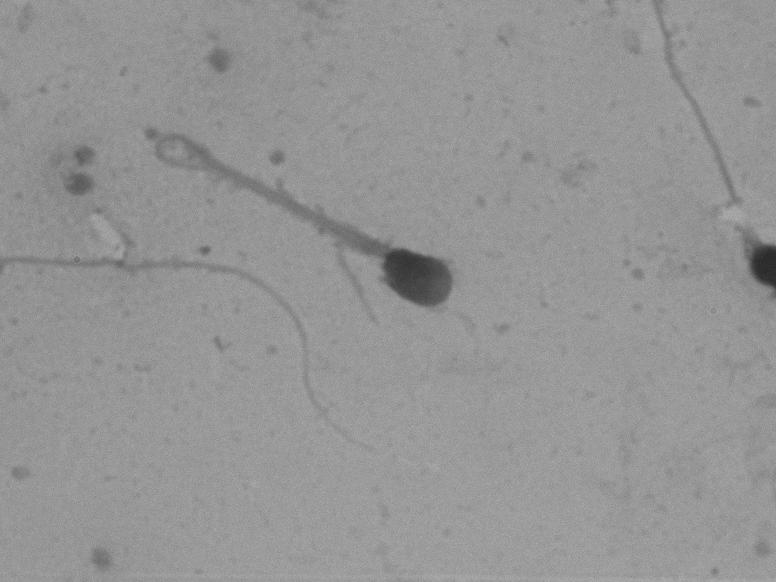Abnormal: (150, 76, 506, 349)
